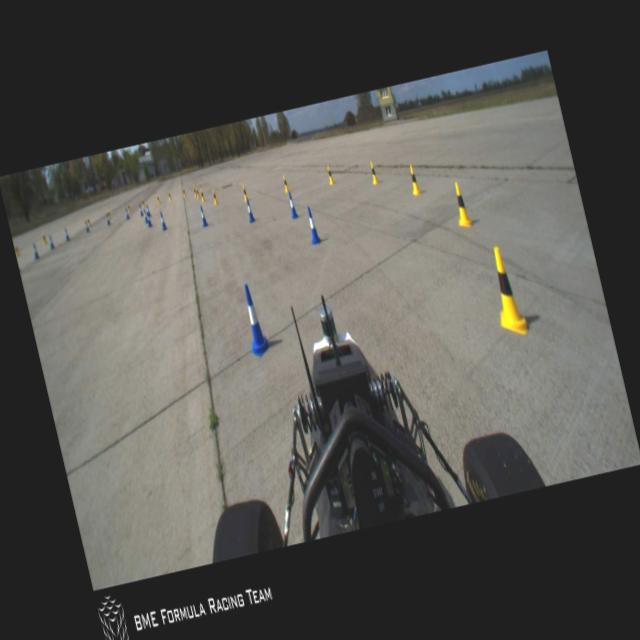blue_cone: (236, 282, 270, 358), (304, 207, 321, 244), (286, 191, 298, 218), (244, 198, 256, 222), (198, 205, 208, 226), (30, 242, 40, 260), (158, 212, 166, 230), (47, 233, 55, 250), (82, 217, 90, 232), (122, 206, 130, 220), (62, 226, 70, 240), (104, 212, 111, 226), (137, 203, 143, 216), (143, 210, 148, 223), (146, 214, 151, 226), (146, 207, 150, 216)
yellow_cone: (484, 245, 528, 339), (449, 180, 474, 231), (406, 164, 422, 195), (367, 160, 379, 184), (280, 174, 290, 192), (326, 163, 334, 184), (240, 183, 247, 200), (211, 188, 218, 204), (198, 188, 206, 202), (41, 230, 48, 245), (125, 200, 132, 213), (85, 215, 92, 228), (105, 207, 111, 220), (140, 197, 146, 210), (154, 192, 160, 204), (192, 185, 197, 198), (181, 186, 186, 198), (196, 187, 200, 198), (167, 191, 171, 200)
